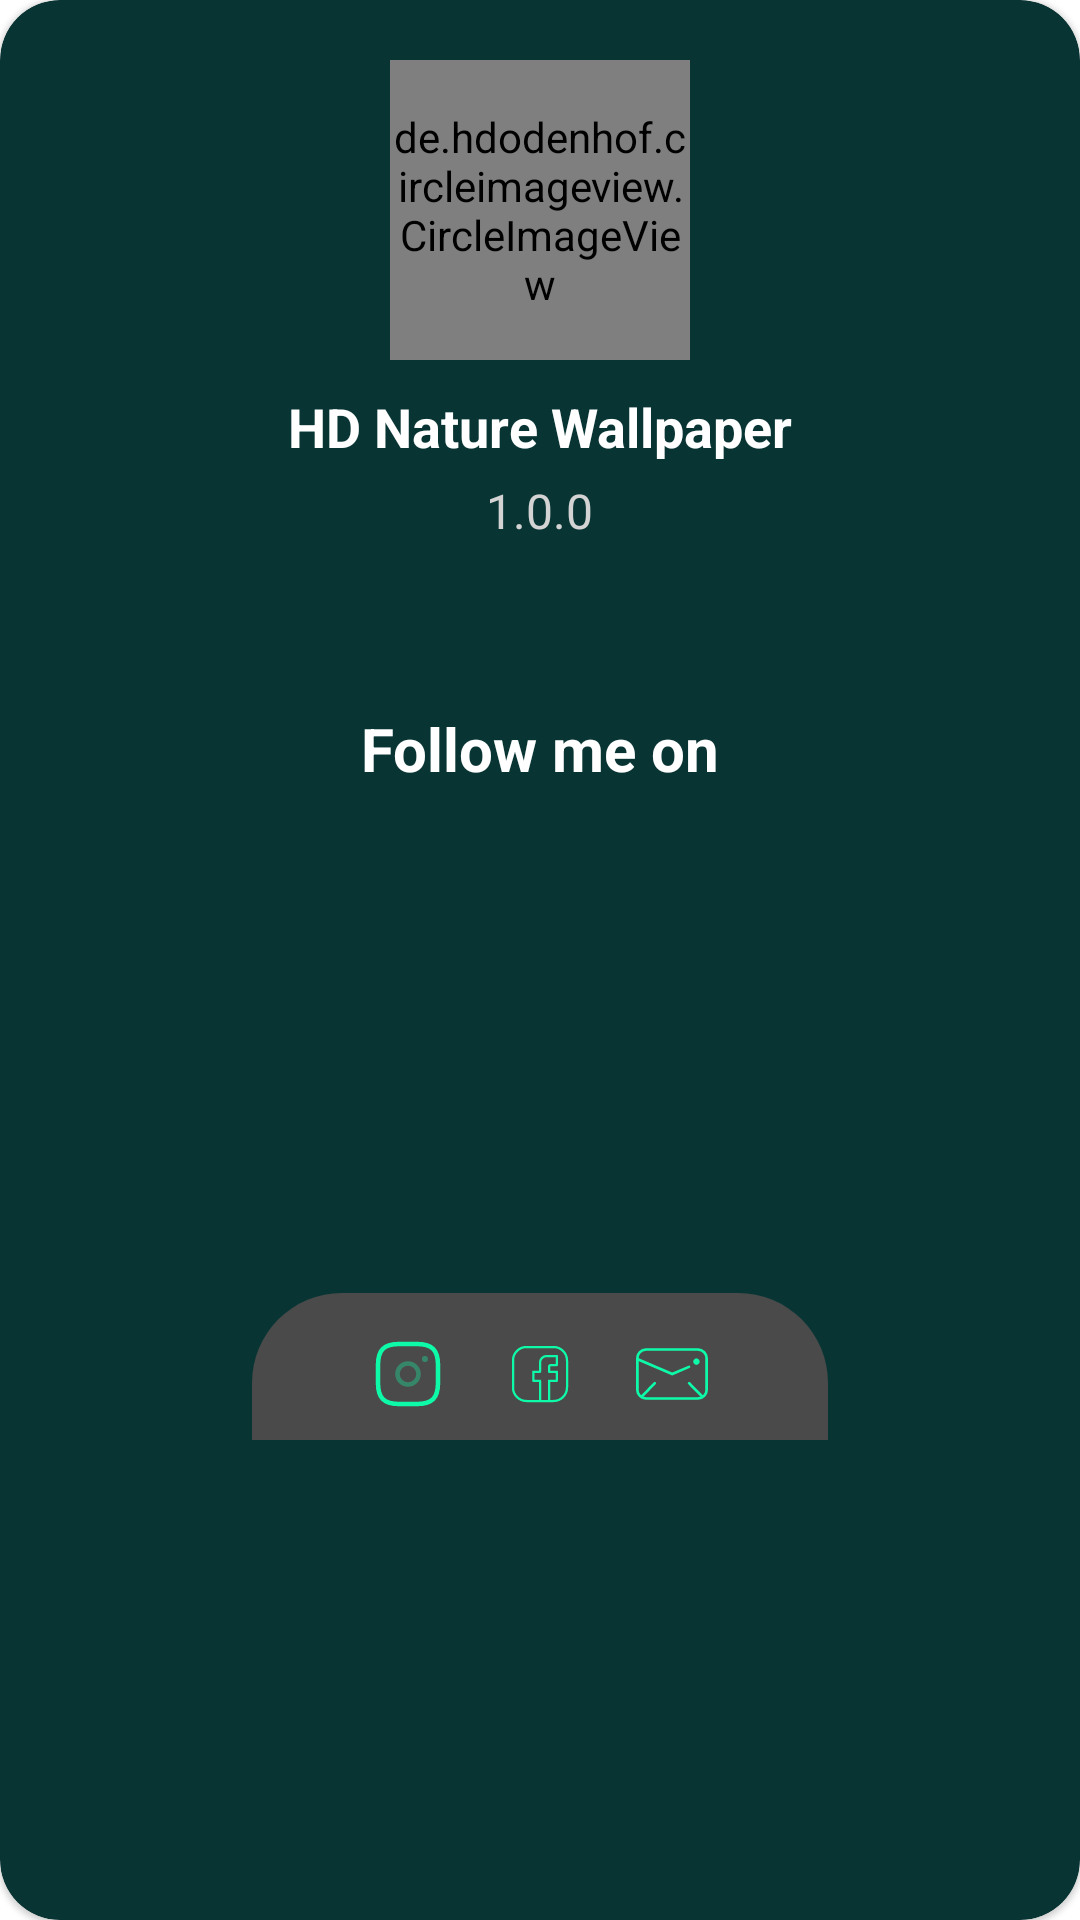

Icons on this 1080w x 1920h Android screen, each with the point to tap as (x=x, y=y):
email: (x=672, y=1374)
